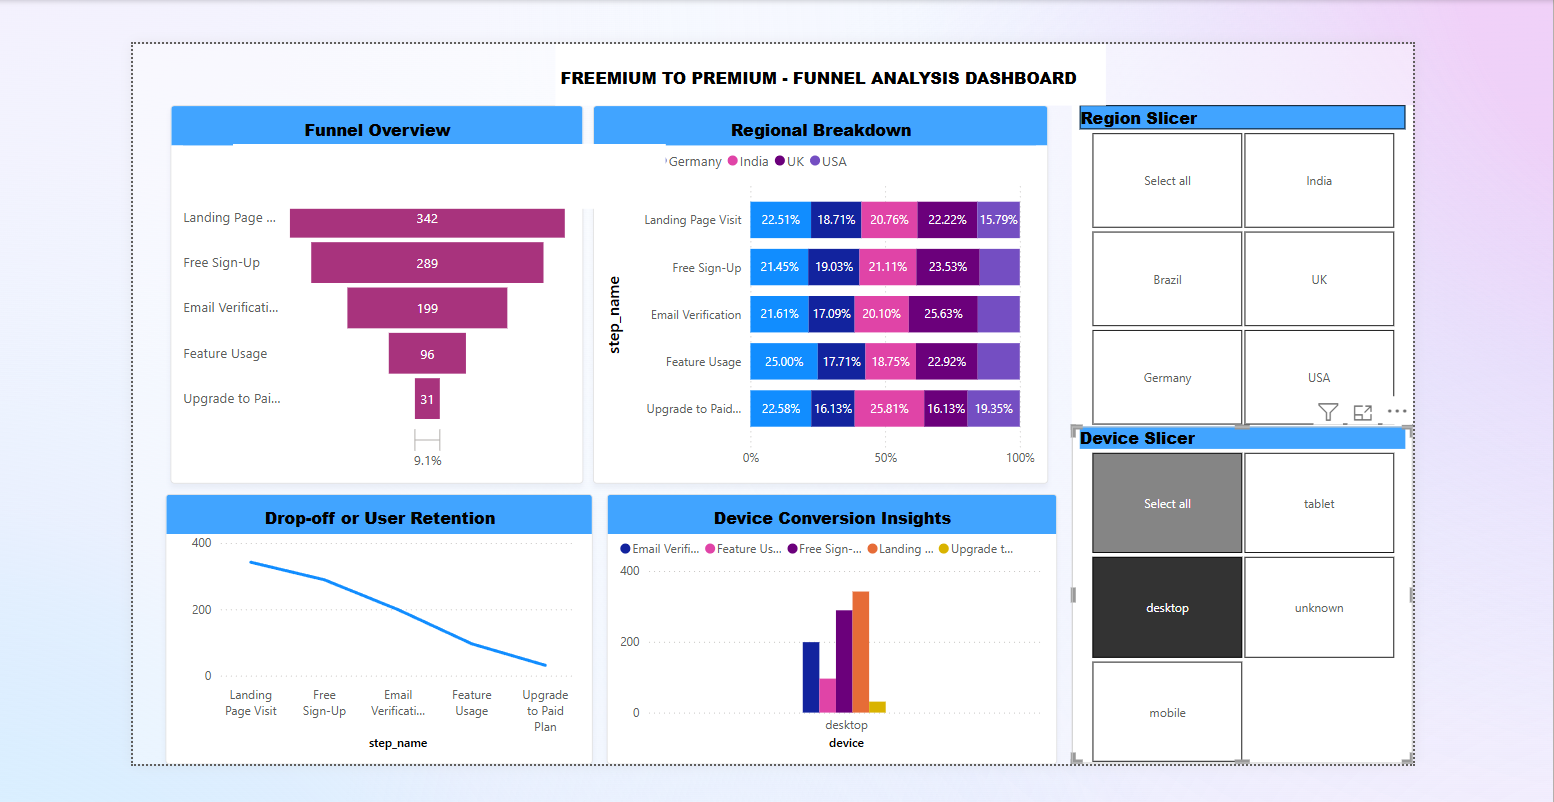

The dashboard page shown, as its layout file describes it:
{"tool":"powerbi","page":{"name":"Page 1","canvas":[1280,720],"ordinal":0},"visuals":[{"type":"funnel","title":"Funnel Overview","fields":{"Category":["extended_funnel.step_name","extended_funnel.user_id"],"Y":["CountNonNull(extended_funnel.user_id)"]},"box":[37.5,61.2,412.5,378.8],"z":0},{"type":"lineChart","title":"Drop-off or User Retention","fields":{"Category":["extended_funnel.step_name"],"Y":["CountNonNull(extended_funnel.user_id)"]},"box":[32.5,450,427.5,270],"z":1000},{"type":"hundredPercentStackedBarChart","title":"Regional Breakdown","fields":{"Category":["extended_funnel.step_name"],"Y":["CountNonNull(extended_funnel.user_id)"],"Series":["extended_funnel.region"]},"box":[460,61.2,455,378.8],"z":2000},{"type":"clusteredColumnChart","title":"Device Conversion Insights","fields":{"Category":["extended_funnel.device"],"Y":["CountNonNull(extended_funnel.user_id)"],"Series":["extended_funnel.step_name"]},"box":[473.8,450,450,270],"z":2001},{"type":"slicer","fields":{"Values":["extended_funnel.region"]},"box":[938.8,61.2,341.2,321.2],"z":2002},{"type":"slicer","fields":{"Values":["extended_funnel.device"]},"box":[938.8,382.5,341.2,337.5],"z":2003},{"type":"textbox","box":[422.5,0,550,61.2],"z":2004},{"type":"textbox","box":[100,100,432.5,65],"z":2005}]}

Visuals, with their boxes on the page's 1280x720 design canvas (x1, y1, x2, y2). These are canvas units, not pixel positions in the 1554x802 screenshot, which may show the page scaled, cropped or inside an application window:
"Funnel Overview" funnel: [38,61,450,440]
"Drop-off or User Retention" lineChart: [32,450,460,720]
"Regional Breakdown" hundredPercentStackedBarChart: [460,61,915,440]
"Device Conversion Insights" clusteredColumnChart: [474,450,924,720]
slicer - extended_funnel.region: [939,61,1280,382]
slicer - extended_funnel.device: [939,382,1280,720]
textbox: [422,0,972,61]
textbox: [100,100,532,165]
